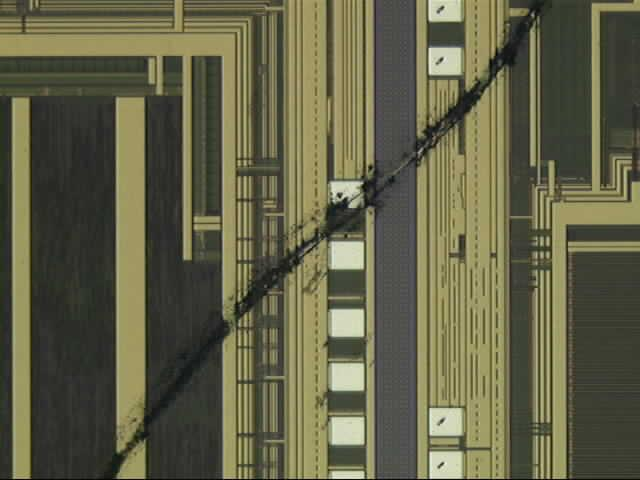SCRATCH: (100, 1, 555, 480)
